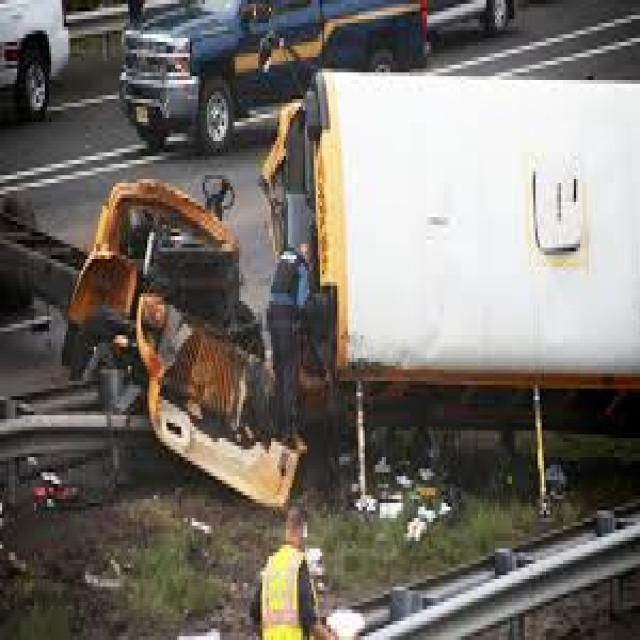accident: (51, 65, 640, 503)
